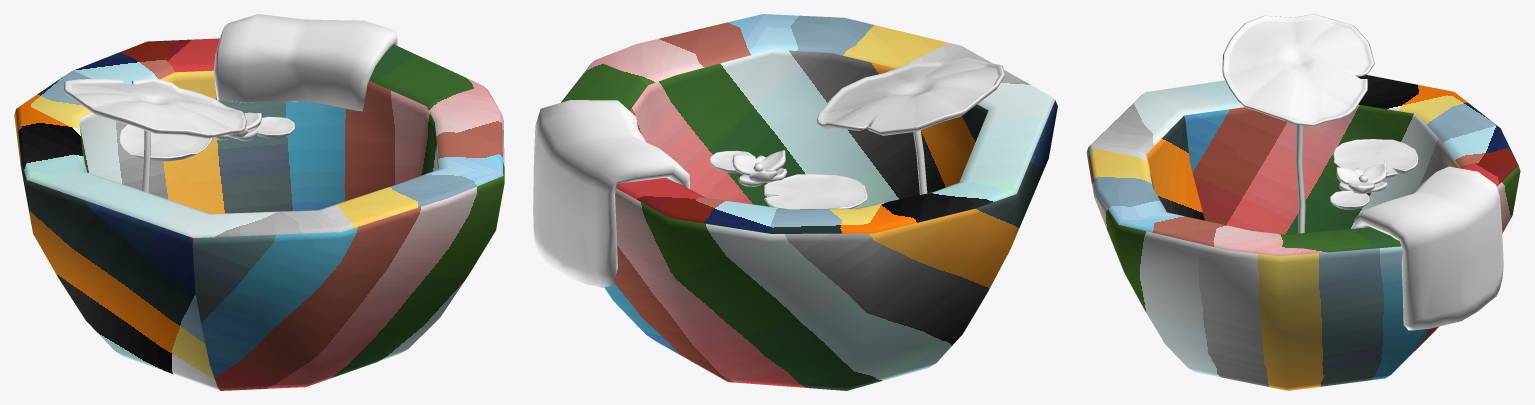
File: Prop_LotusBathtub.glb
3 renders of one model, left to right at view 1: azimuth 30°, elevation 25°; view 2: azimuth 150°, elevation 25°; view 3: azimuth 270°, elevation 25°, orthographic. The views are drawn at different scales.
Parts seen in each view (by area): view 1: Prop_LotusBathtub; view 2: Prop_LotusBathtub; view 3: Prop_LotusBathtub.
Part boxes in pixels (left/top/right/bottom): Prop_LotusBathtub: left=14, top=14, right=504, bottom=390; Prop_LotusBathtub: left=533, top=14, right=1057, bottom=390; Prop_LotusBathtub: left=1086, top=14, right=1520, bottom=390.
Bounding box in the file's own units: 1.26 × 0.7553 × 1.21.
Materials: 1 (1 with a texture image).
